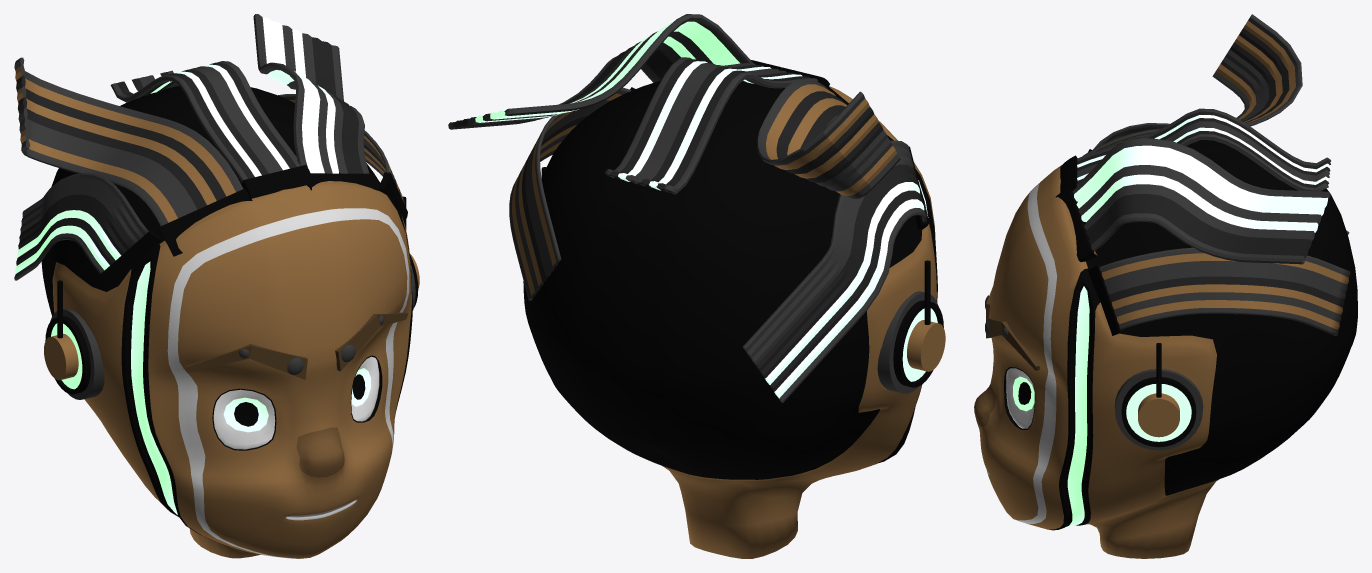
File: Head.fbx
3 views of the same model, side by side, from view 1: azimuth 30°, elevation 25°; view 2: azimuth 150°, elevation 25°; view 3: azimuth 270°, elevation 25° (orthographic). The views are drawn at different scales.
Parts seen in each view (by area): view 1: Head; view 2: Head; view 3: Head.
Boxes of the visible parts, <box> form: Head: <box>14,14,419,558</box>; Head: <box>448,14,945,558</box>; Head: <box>974,14,1357,558</box>.
Bounding box in the file's own units: 0.3305 × 0.4194 × 0.3226.
